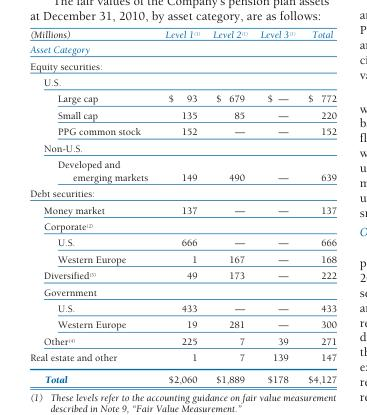table: (29, 28, 336, 384)
table column: (29, 28, 155, 384), (155, 28, 205, 384), (205, 28, 253, 384), (253, 28, 300, 384), (300, 28, 336, 384)
table column header: (29, 28, 336, 41)
table projected row header: (29, 73, 336, 90), (29, 184, 336, 201), (29, 217, 336, 234), (29, 41, 336, 57), (29, 57, 336, 73), (29, 139, 336, 155), (29, 283, 336, 299)
table row: (29, 155, 336, 184), (29, 349, 336, 368), (29, 73, 336, 90), (29, 106, 336, 123), (29, 184, 336, 201), (29, 217, 336, 234), (29, 250, 336, 267), (29, 299, 336, 316), (29, 332, 336, 349), (29, 41, 336, 57), (29, 57, 336, 73), (29, 90, 336, 106), (29, 123, 336, 139), (29, 139, 336, 155), (29, 201, 336, 217), (29, 234, 336, 250), (29, 267, 336, 283), (29, 283, 336, 299), (29, 316, 336, 332), (29, 368, 336, 384), (29, 28, 336, 41)
